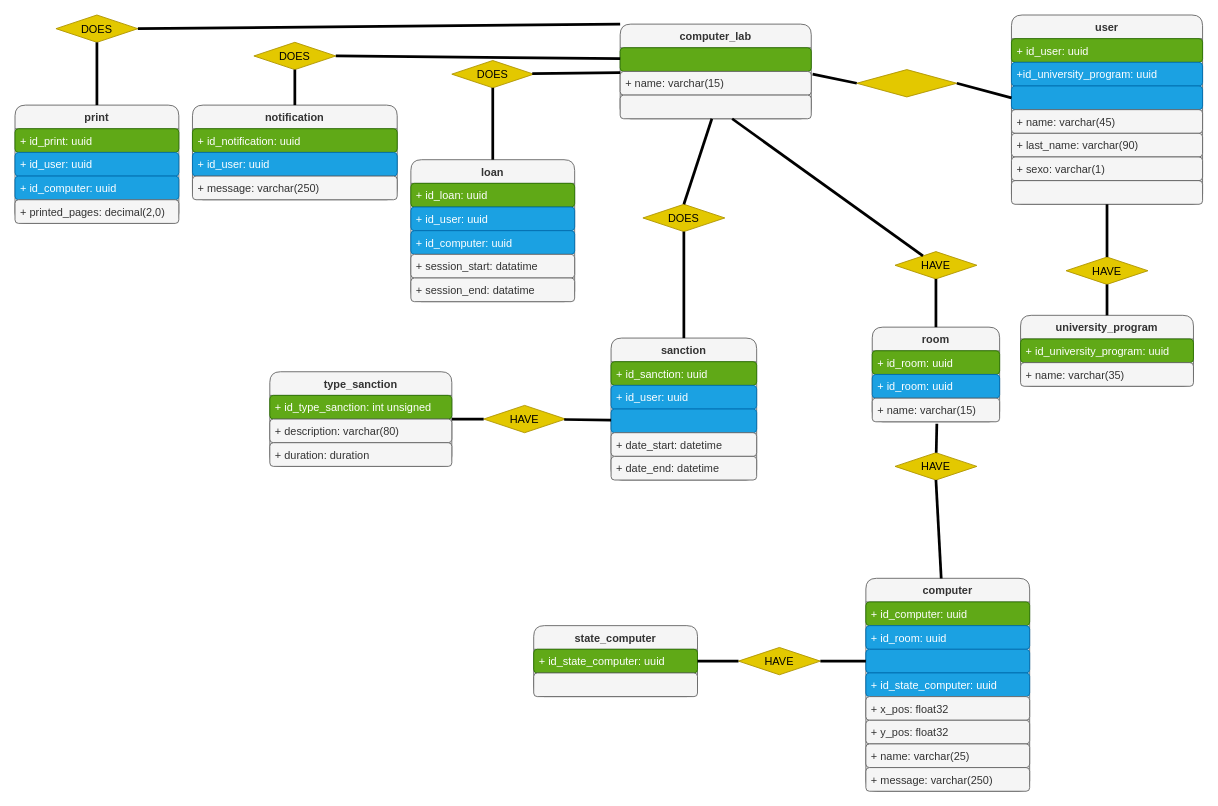
Image size: 1218x806. Some labels were removed from this diagram. Here are the shapes that lost their labels. From the top down, the box of each, then its label:
(619, 47, 811, 71): + id_computer_lab: uuid
(856, 69, 957, 97): REGISTER
(1011, 85, 1203, 110): + id_operator: uuid
(619, 94, 811, 119): + description: varchar(25)
(1011, 180, 1203, 204): + semester: decimal(2,0)
(610, 408, 757, 433): + id_type_sanction: uuid
(865, 648, 1030, 673): + id_type_computer: uuid
(533, 672, 698, 697): + name: varchar(20)
